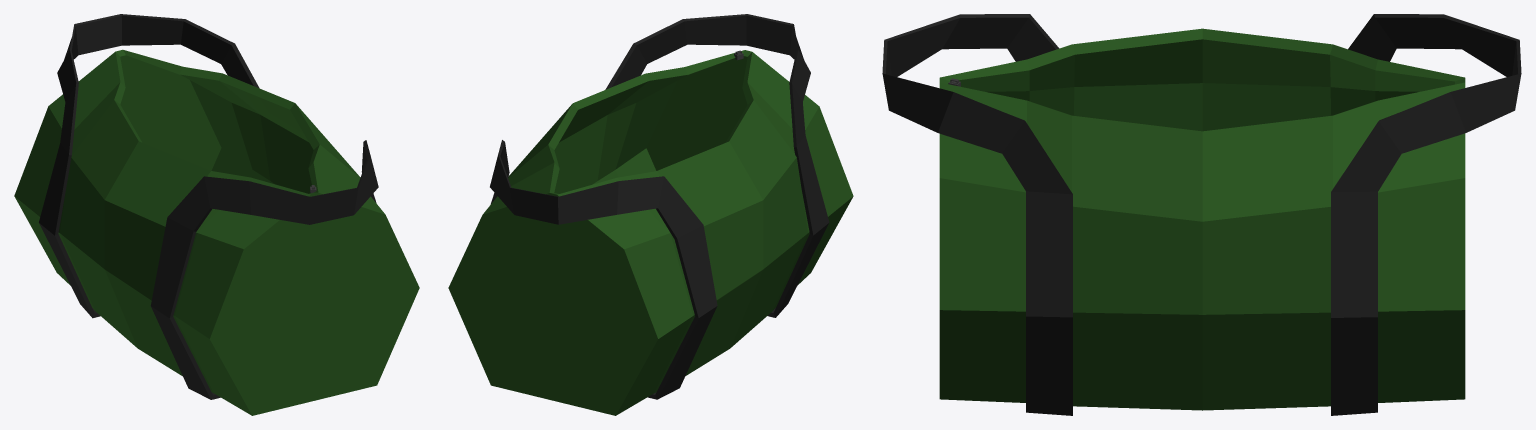
File: moneyBagFIN.fbx
3 renders of one model, left to right at view 1: azimuth 30°, elevation 25°; view 2: azimuth 150°, elevation 25°; view 3: azimuth 270°, elevation 25°, orthographic. The views are drawn at different scales.
Visible parts, largest first — view 1: Cube.001; view 2: Cube.001; view 3: Cube.001.
Part boxes in pixels (bbox=[...]): Cube.001: bbox=[14, 14, 419, 415]; Cube.001: bbox=[448, 14, 853, 415]; Cube.001: bbox=[882, 14, 1521, 415].
Size of the model in its own units: 219 by 212 by 392.
